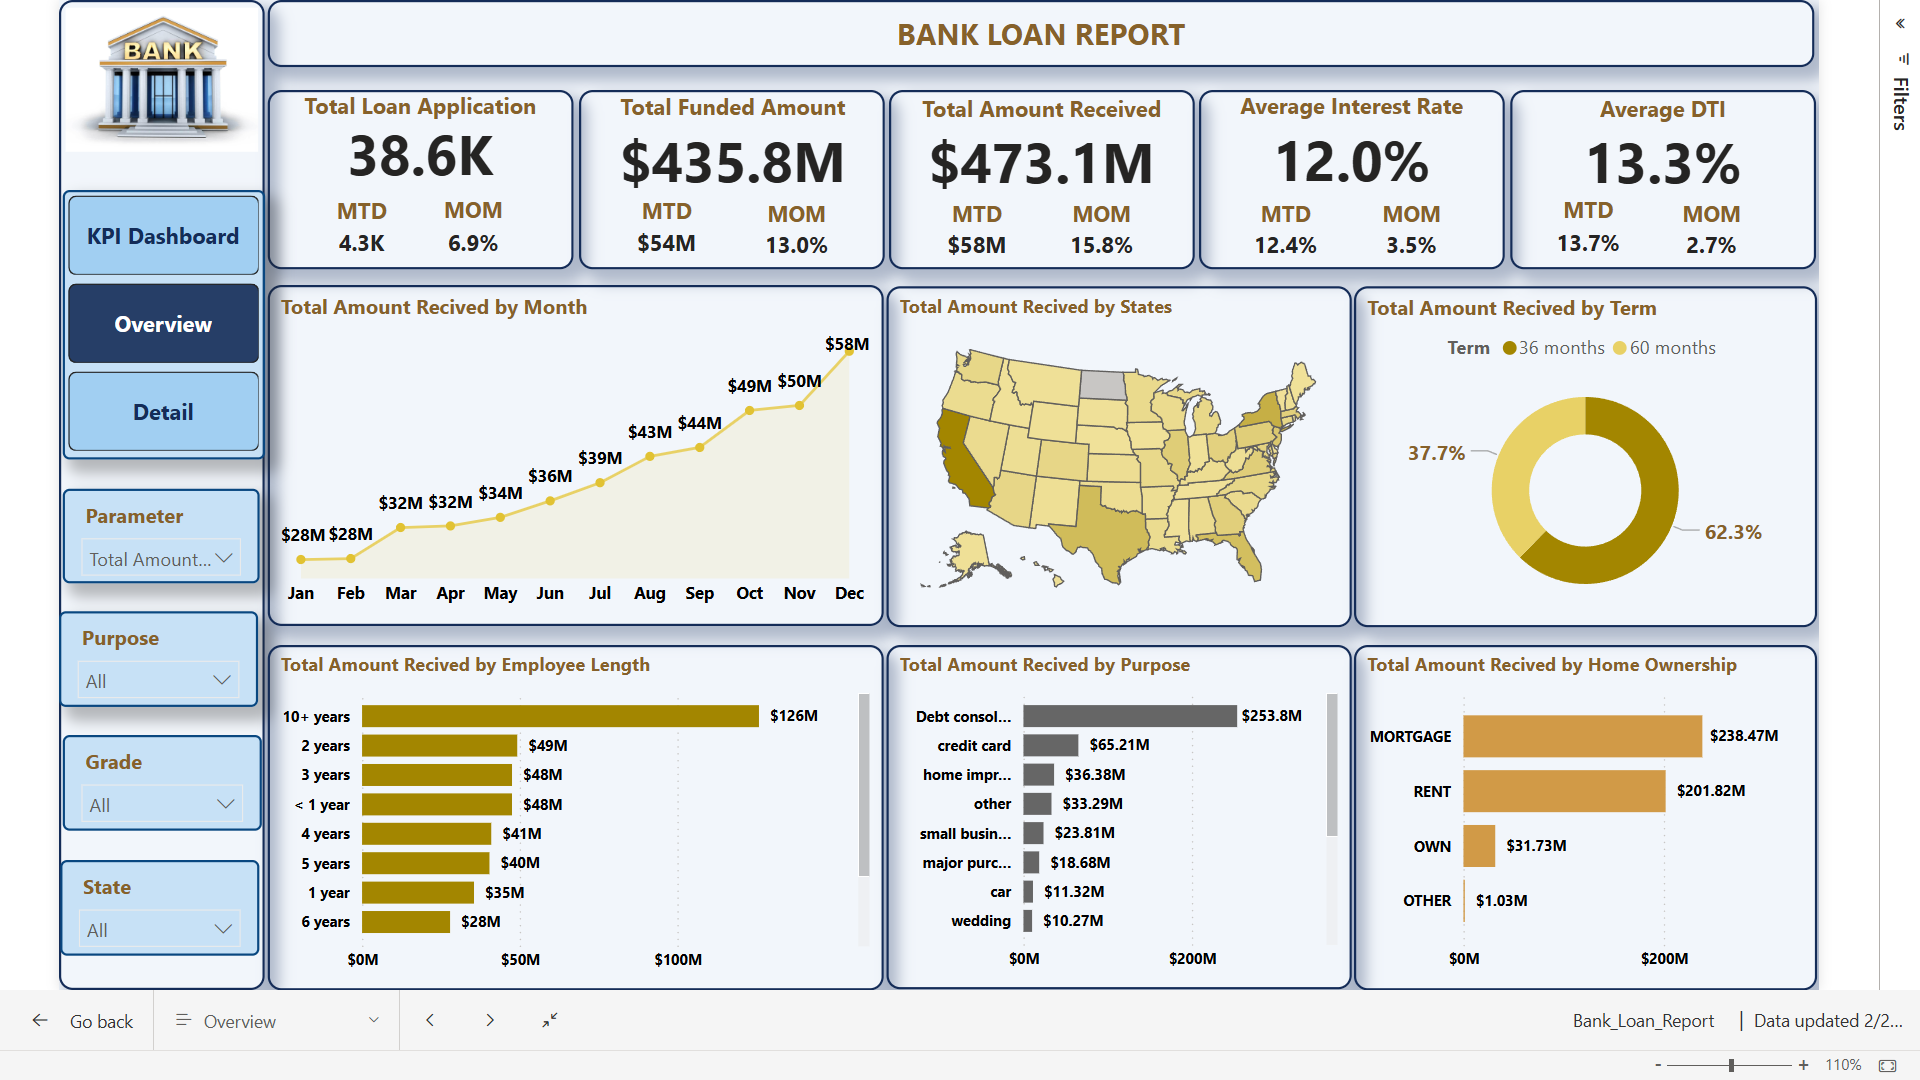

The dashboard page shown, as its layout file describes it:
{"tool":"powerbi","page":{"name":"Overview","canvas":[1280,720],"ordinal":1},"visuals":[{"type":"shape","box":[0,0,149.7,720.2],"z":0},{"type":"textbox","box":[152.1,0,1125.2,49.1],"z":1000},{"type":"image","box":[0,0,149.7,116.6],"z":2000},{"type":"shape","box":[152.1,65,222.1,130],"z":3000},{"type":"card","title":"MTD","fields":{"Values":["Measures Table.MTD"]},"box":[187.3,142.1,65.9,53],"z":4000},{"type":"card","title":"Total Loan Application","fields":{"Values":["Measures Table.Total Loan Application"]},"box":[152.1,65,222.1,69.9],"z":5000},{"type":"shape","box":[377.9,65.4,222.1,130],"z":6000},{"type":"shape","box":[603.7,65.4,222.1,130],"z":7000},{"type":"shape","box":[829.5,65.4,222.1,130],"z":8000},{"type":"shape","box":[1055.2,65.4,222.1,130],"z":9000},{"type":"card","title":"MOM","fields":{"Values":["Measures Table.MOM"]},"box":[268.7,140.8,64.6,54.2],"z":10000},{"type":"card","title":"Total Funded Amount","fields":{"Values":["Measures Table.Total Funded Amount"]},"box":[379.1,66.3,222.1,78.5],"z":11000},{"type":"card","title":"MTD","fields":{"Values":["Measures Table.MTD Total Fund Aount"]},"box":[409.4,142.1,65.9,53],"z":12000},{"type":"card","title":"MOM","fields":{"Values":["Measures Table.MOM Fund Amount"]},"box":[503.7,143.4,65.9,51.7],"z":13000},{"type":"card","title":"Total Amount Received","fields":{"Values":["Measures Table.Total Amount Recived"]},"box":[603.2,67.2,222.2,78.8],"z":14000},{"type":"card","title":"MTD","fields":{"Values":["Measures Table.MTD Total Amount Recived"]},"box":[635.5,143.4,64.6,51.7],"z":15000},{"type":"card","title":"MOM","fields":{"Values":["Measures Table.MOM Total Amount Recived"]},"box":[725.9,143.4,65.9,51.7],"z":16000},{"type":"card","title":"Average  Interest Rate","fields":{"Values":["Measures Table.Average Interest Rate"]},"box":[829.2,65.9,222.2,78.8],"z":17000},{"type":"card","title":"MTD","fields":{"Values":["Measures Table.MTD Average Interest Rate"]},"box":[860.2,143.4,64.6,51.7],"z":18000},{"type":"card","title":"MOM","fields":{"Values":["Measures Table.MOM Average Interest Rate"]},"box":[950.6,143.4,65.9,51.7],"z":19000},{"type":"card","title":"Average  DTI","fields":{"Values":["Measures Table.Average Debt-to-Income"]},"box":[1055.3,67.2,222.2,78.8],"z":20000},{"type":"card","title":"MTD","fields":{"Values":["Measures Table.MTD Average DTI"]},"box":[1079.8,140.8,64.6,54.2],"z":21000},{"type":"card","title":"MOM","fields":{"Values":["Measures Table.MOM Average DTI"]},"box":[1168.9,143.4,65.9,51.7],"z":22000},{"type":"slicer","fields":{"Values":["bank_loan.purpose"]},"box":[0,444.3,144.7,69.7],"z":23000},{"type":"slicer","fields":{"Values":["bank_loan.grade"]},"box":[2.6,534.7,144.7,69.7],"z":24000},{"type":"slicer","fields":{"Values":["bank_loan.address_state"]},"box":[1.3,625.1,144.7,69.7],"z":25000},{"type":"lineChart","fields":{"Y":["Measures Table.Total Amount Recived"],"Category":["Date Table.Month_sort"]},"box":[152.1,207.4,447.9,247.9],"z":26000},{"type":"slicer","fields":{"Values":["Parameter.Parameter"]},"box":[2.6,355.2,143.4,68.5],"z":27000},{"type":"shapeMap","fields":{"Value":["Measures Table.Total Amount Recived"],"Category":["bank_loan.address_state"]},"box":[601.9,208,338.4,248],"z":28000},{"type":"donutChart","fields":{"Y":["Measures Table.Total Amount Recived"],"Category":["bank_loan.term"]},"box":[941.6,208,337.1,248],"z":29000},{"type":"clusteredBarChart","fields":{"Y":["Measures Table.Total Amount Recived"],"Category":["bank_loan.emp_length"]},"box":[152.1,468.7,447.9,251.5],"z":30000},{"type":"clusteredBarChart","fields":{"Y":["Measures Table.Total Amount Recived"],"Category":["bank_loan.purpose"]},"box":[601.9,468.9,338.4,250.6],"z":31000},{"type":"clusteredBarChart","fields":{"Y":["Measures Table.Total Amount Recived"],"Category":["bank_loan.home_ownership"]},"box":[942,469,337,251],"z":32000},{"type":"pageNavigator","box":[2.6,138.2,147.2,196.3],"z":33000}]}

Visuals, with their boxes on the page's 1280x720 design canvas (x1, y1, x2, y2). These are canvas units, not pixel positions in the 1920x1080 screenshot, which may show the page scaled, cropped or inside an application window:
shape: left=0, top=0, right=150, bottom=720
textbox: left=152, top=0, right=1277, bottom=49
image: left=0, top=0, right=150, bottom=117
shape: left=152, top=65, right=374, bottom=195
"MTD" card: left=187, top=142, right=253, bottom=195
"Total Loan Application" card: left=152, top=65, right=374, bottom=135
shape: left=378, top=65, right=600, bottom=195
shape: left=604, top=65, right=826, bottom=195
shape: left=830, top=65, right=1052, bottom=195
shape: left=1055, top=65, right=1277, bottom=195
"MOM" card: left=269, top=141, right=333, bottom=195
"Total Funded Amount" card: left=379, top=66, right=601, bottom=145
"MTD" card: left=409, top=142, right=475, bottom=195
"MOM" card: left=504, top=143, right=570, bottom=195
"Total Amount Received" card: left=603, top=67, right=825, bottom=146
"MTD" card: left=636, top=143, right=700, bottom=195
"MOM" card: left=726, top=143, right=792, bottom=195
"Average  Interest Rate" card: left=829, top=66, right=1051, bottom=145
"MTD" card: left=860, top=143, right=925, bottom=195
"MOM" card: left=951, top=143, right=1016, bottom=195
"Average  DTI" card: left=1055, top=67, right=1278, bottom=146
"MTD" card: left=1080, top=141, right=1144, bottom=195
"MOM" card: left=1169, top=143, right=1235, bottom=195
slicer - bank_loan.purpose: left=0, top=444, right=145, bottom=514
slicer - bank_loan.grade: left=3, top=535, right=147, bottom=604
slicer - bank_loan.address_state: left=1, top=625, right=146, bottom=695
lineChart - Measures Table.Total Amount Recived x Date Table.Month_sort: left=152, top=207, right=600, bottom=455
slicer - Parameter.Parameter: left=3, top=355, right=146, bottom=424
shapeMap - Measures Table.Total Amount Recived x bank_loan.address_state: left=602, top=208, right=940, bottom=456
donutChart - Measures Table.Total Amount Recived x bank_loan.term: left=942, top=208, right=1279, bottom=456
clusteredBarChart - Measures Table.Total Amount Recived x bank_loan.emp_length: left=152, top=469, right=600, bottom=720
clusteredBarChart - Measures Table.Total Amount Recived x bank_loan.purpose: left=602, top=469, right=940, bottom=720
clusteredBarChart - Measures Table.Total Amount Recived x bank_loan.home_ownership: left=942, top=469, right=1279, bottom=720
pageNavigator: left=3, top=138, right=150, bottom=334
